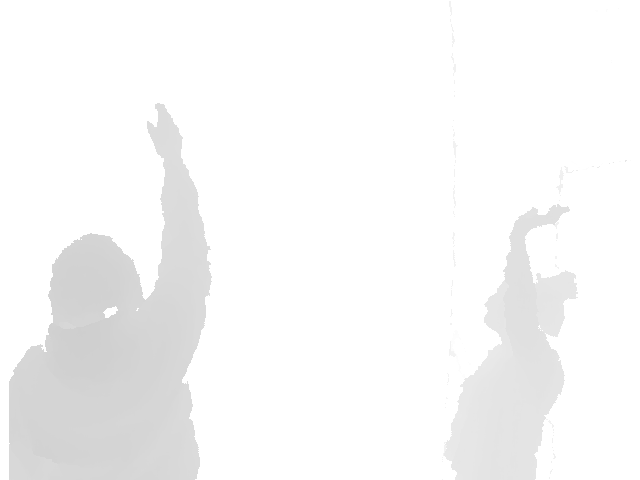hand: (146, 102, 184, 164), (522, 200, 571, 233)
head: (47, 232, 148, 343), (484, 264, 566, 343)
person: (10, 102, 214, 480), (442, 200, 580, 480)
